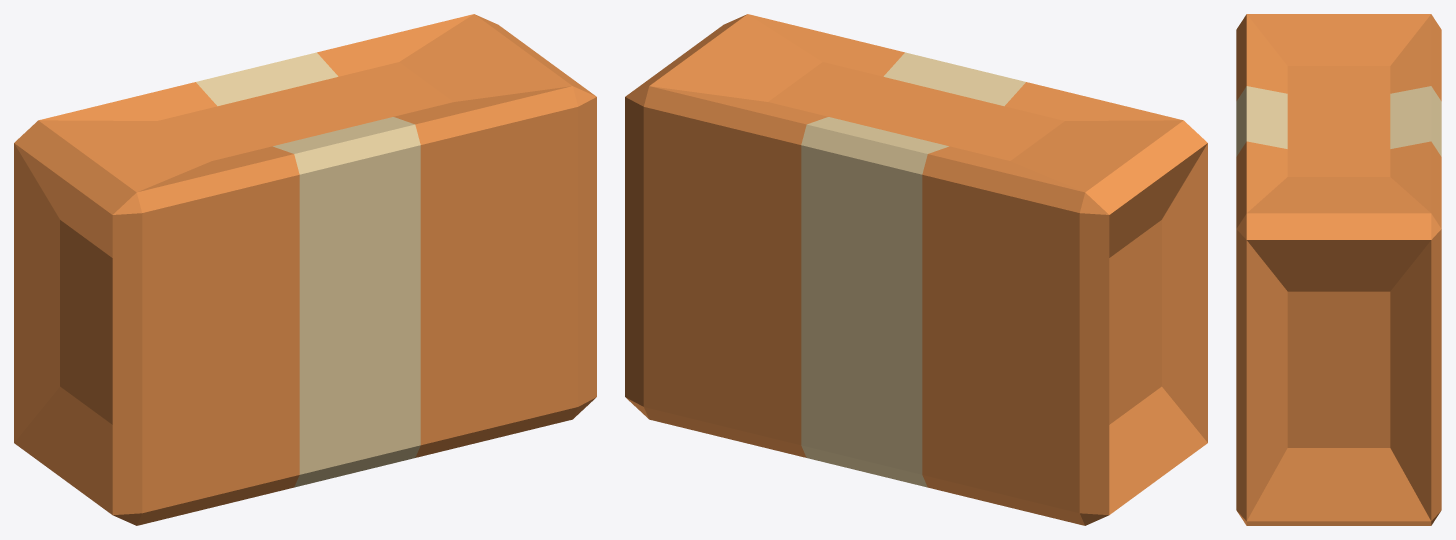
File: SM_CardBoxD.glb
The picture shows the model from 3 angles, left to right: view 1: azimuth 30°, elevation 25°; view 2: azimuth 150°, elevation 25°; view 3: azimuth 270°, elevation 25°; orthographic projection. The views are drawn at different scales.
Visible parts, largest first — view 1: part_00, part_01; view 2: part_00, part_01; view 3: part_00, part_01.
Part boxes in pixels (x1=…): part_00: x1=14, y1=14, x2=596, y2=525; part_01: x1=196, y1=52, x2=420, y2=487; part_00: x1=625, y1=14, x2=1207, y2=525; part_01: x1=801, y1=52, x2=1025, y2=487; part_00: x1=1236, y1=14, x2=1441, y2=525; part_01: x1=1236, y1=86, x2=1441, y2=156.
Bounding box in the file's own units: 0.38 × 0.25 × 0.1487.
